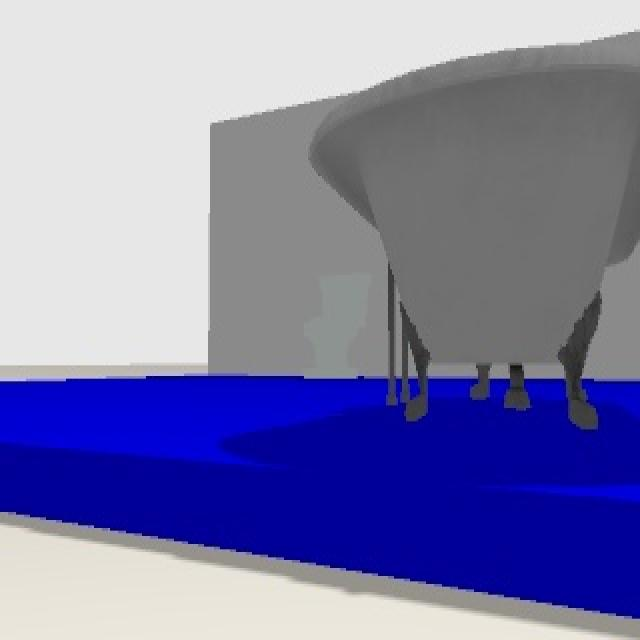bathtub: (308, 32, 638, 440)
